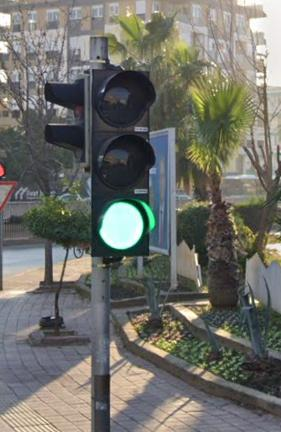greenlight: (92, 68, 151, 259)
